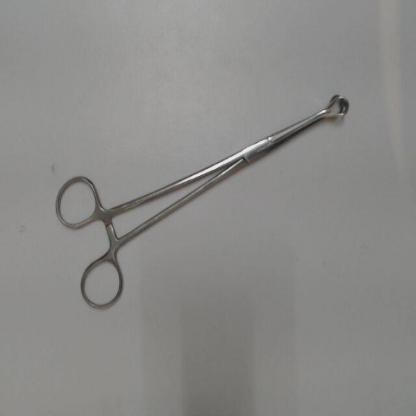8 Babcock Tissue Forceps: (50, 87, 354, 319)
